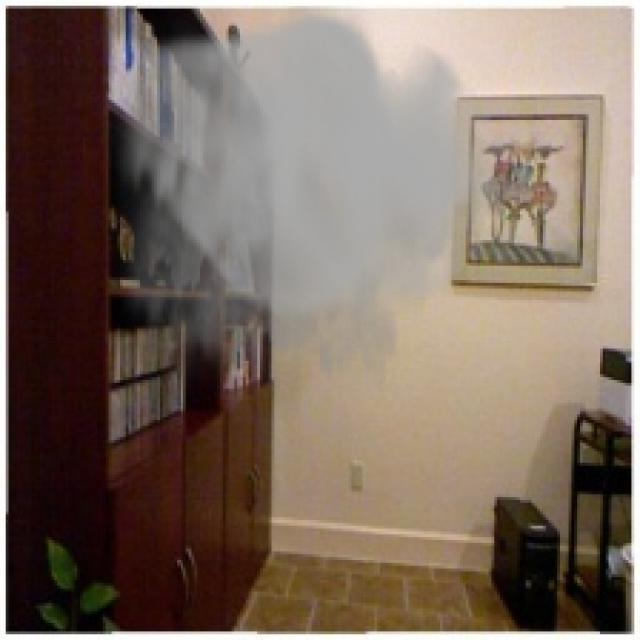Smoke: (94, 6, 500, 428)
